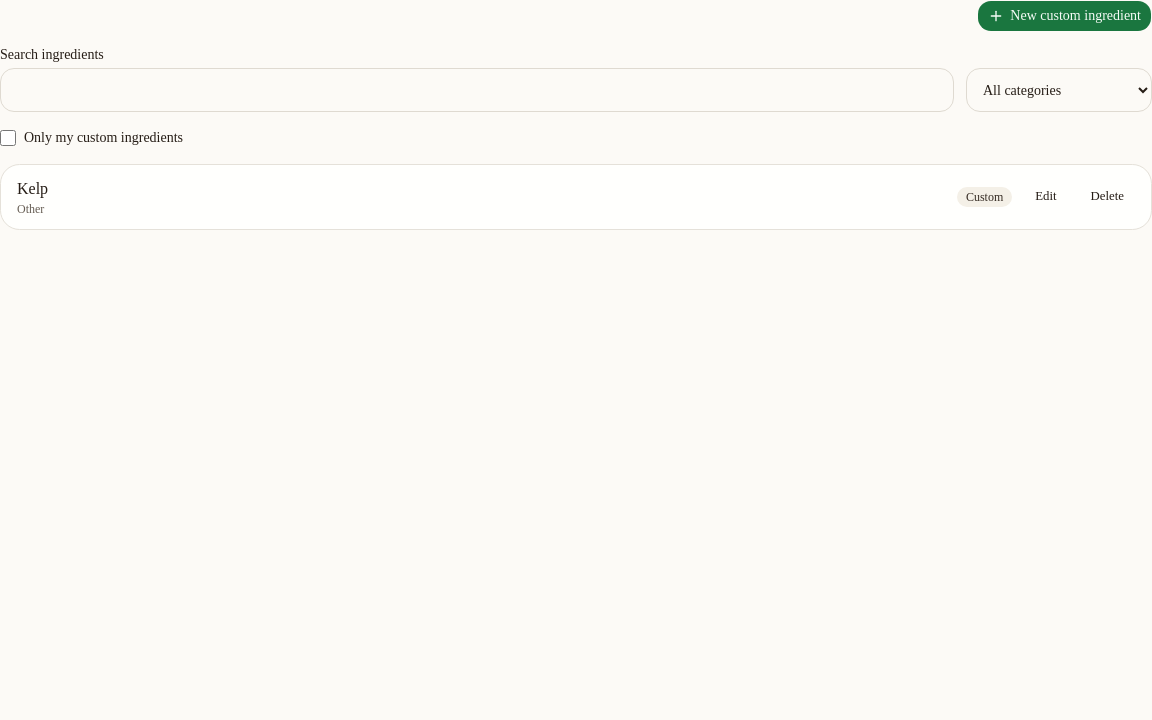
deleting › says a meal still uses it, and stays open, when the API refuses
Click the button with aria-label "Delete Kelp": (1107,197) [1080,183,1135,211]
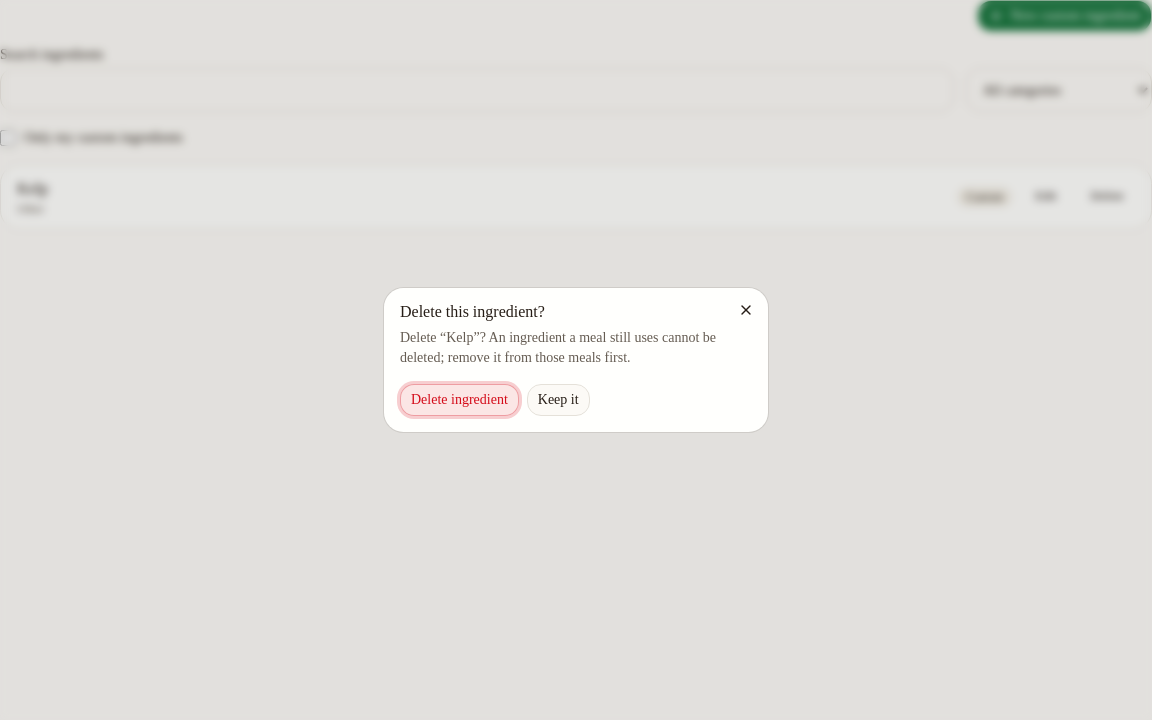
Click the button "Delete ingredient": (459,400) [400,384,519,416]
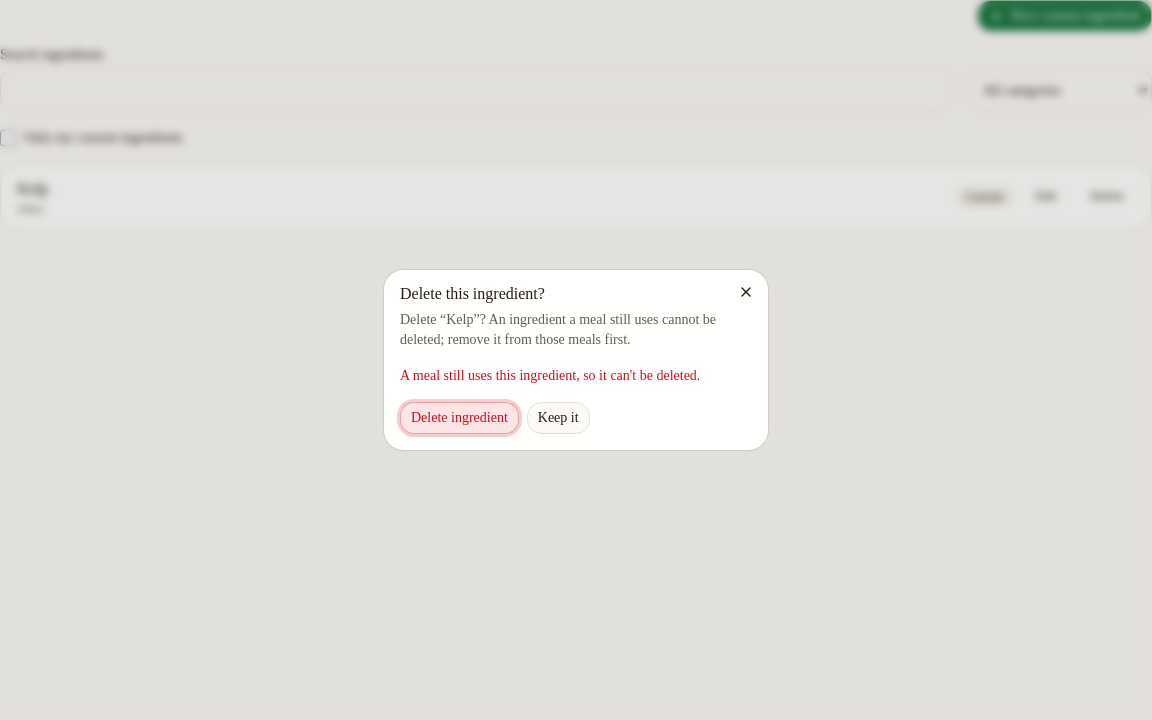
Expected: the dialog "Delete this ingredient?" is shown, [384,270,768,450]
Expected: the text "A meal still uses this ingredient, so it can't be deleted." is shown, [400,366,752,386]
